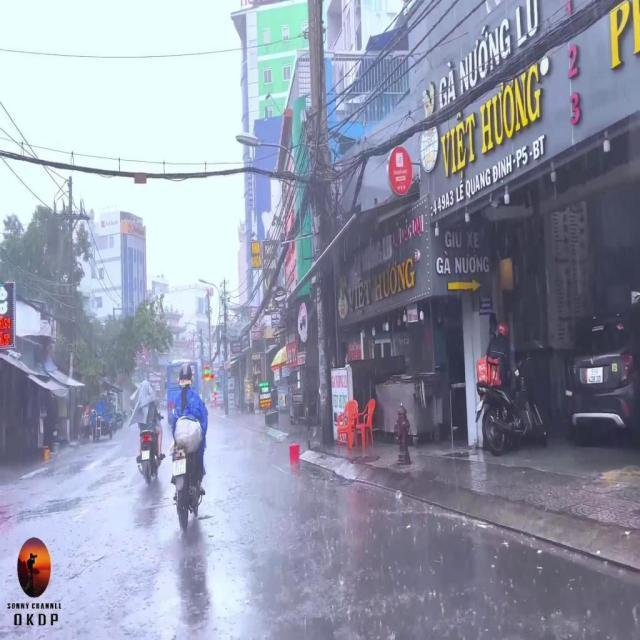106-cam-oto-tai: (296, 300, 308, 344)
